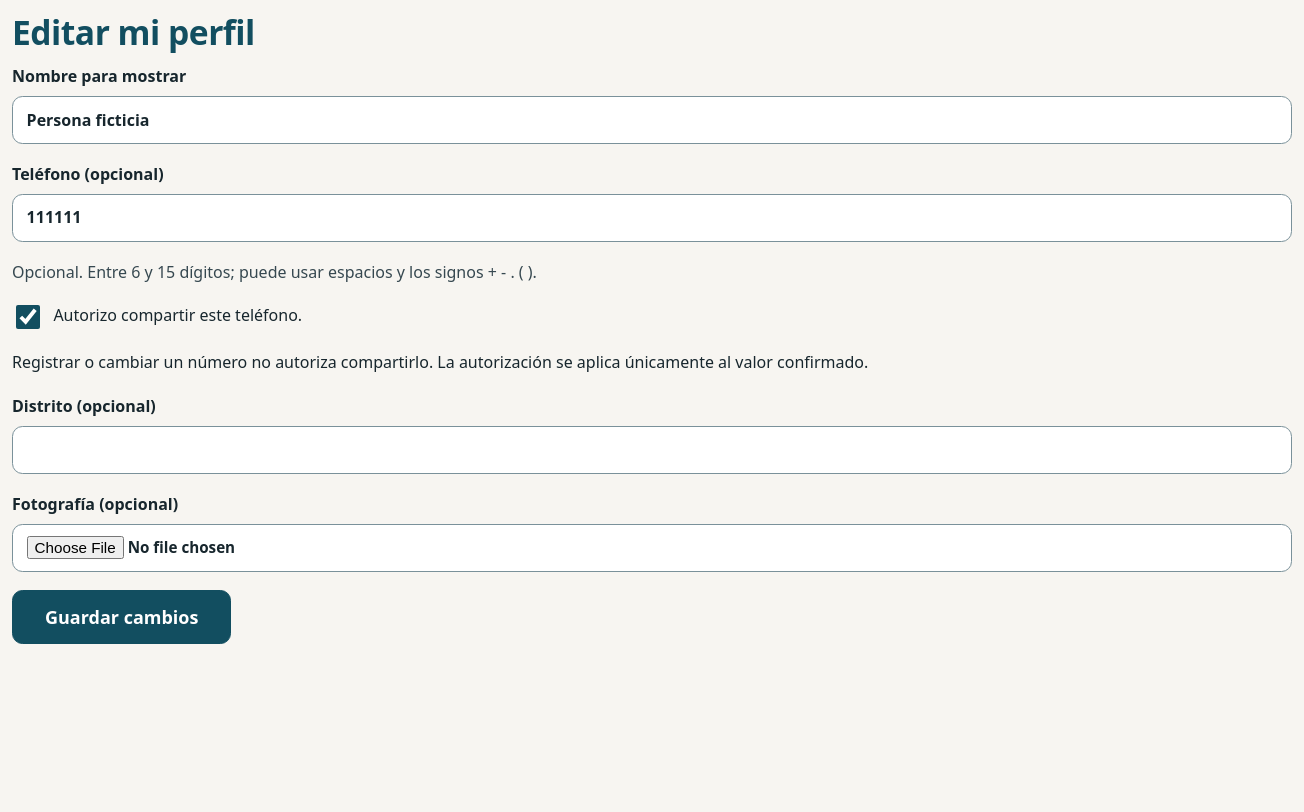
Test case: CA-PER-07 teléfono <script>123456 se rechaza con su motivo
Replace the text in the field labelled "Teléfono (opcional)" with "<script>123456": point(652, 218) [12,194,1292,242]
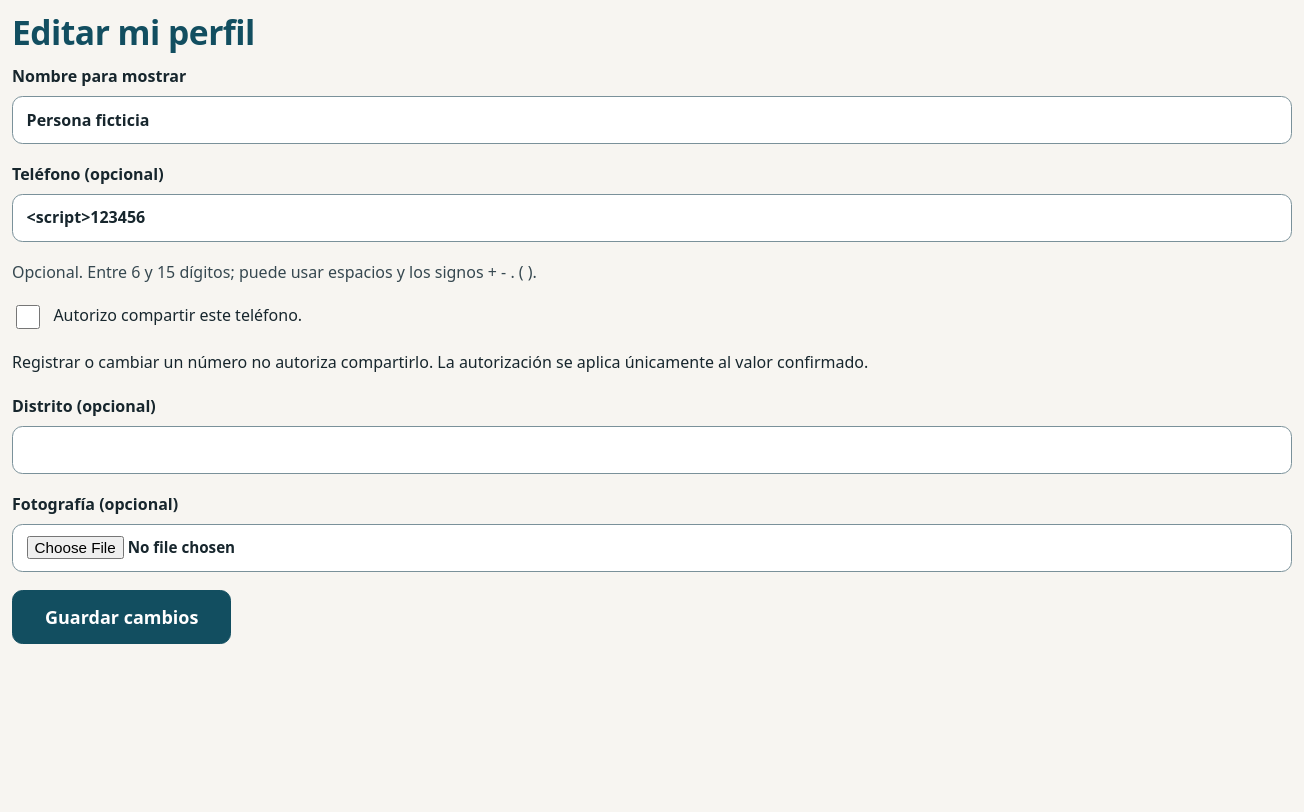
Click the button "Guardar cambios": point(122, 617) [12,590,231,644]
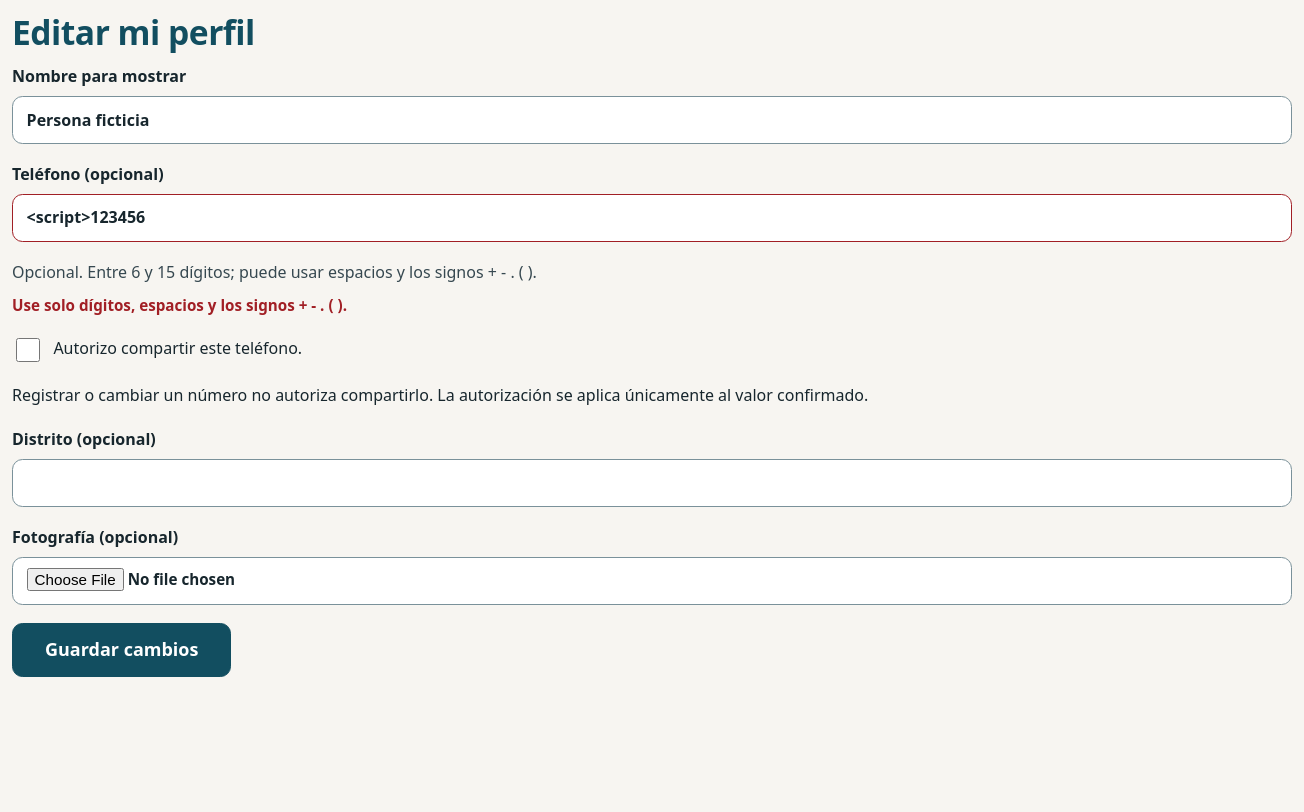
Result: the text "Use solo dígitos, espacios y los signos + - . ( )." is shown at [12,296,347,316]
